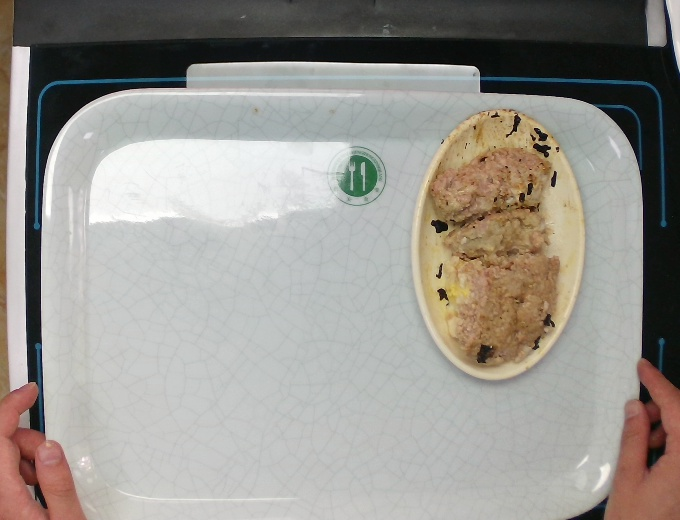JYsf-Tuo_Yuan_Wan: (410, 109, 590, 378)
